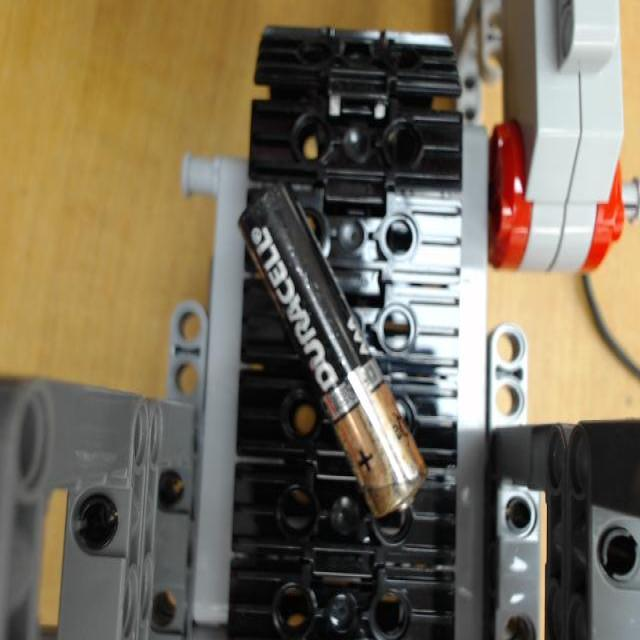AAA: (237, 179, 428, 518)
